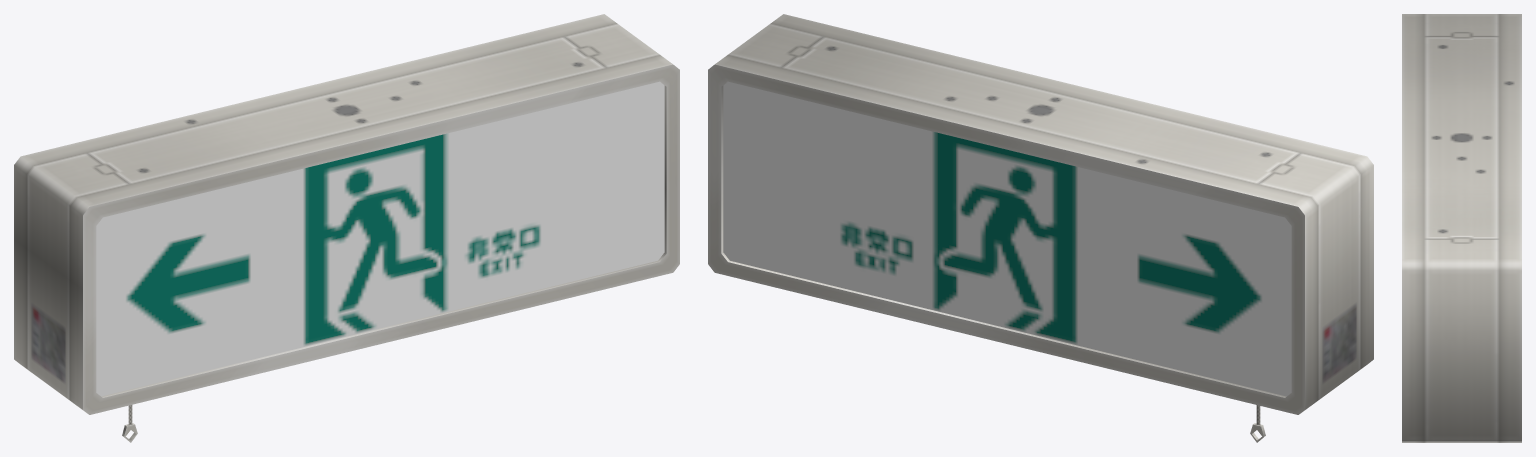
File: SHW_Exitlight_01_14.fbx
3 views of the same model, side by side, from view 1: azimuth 30°, elevation 25°; view 2: azimuth 150°, elevation 25°; view 3: azimuth 270°, elevation 25° (orthographic). The views are drawn at different scales.
Parts seen in each view (by area): view 1: shw_exitlight_01_14; view 2: shw_exitlight_01_14; view 3: shw_exitlight_01_14.
Part boxes in pixels (x1,y1,x2,y2): shw_exitlight_01_14: (14,14,679,442); shw_exitlight_01_14: (708,14,1373,442); shw_exitlight_01_14: (1402,14,1521,442).
Bounding box in the file's own units: 90 × 40.17 × 18.
